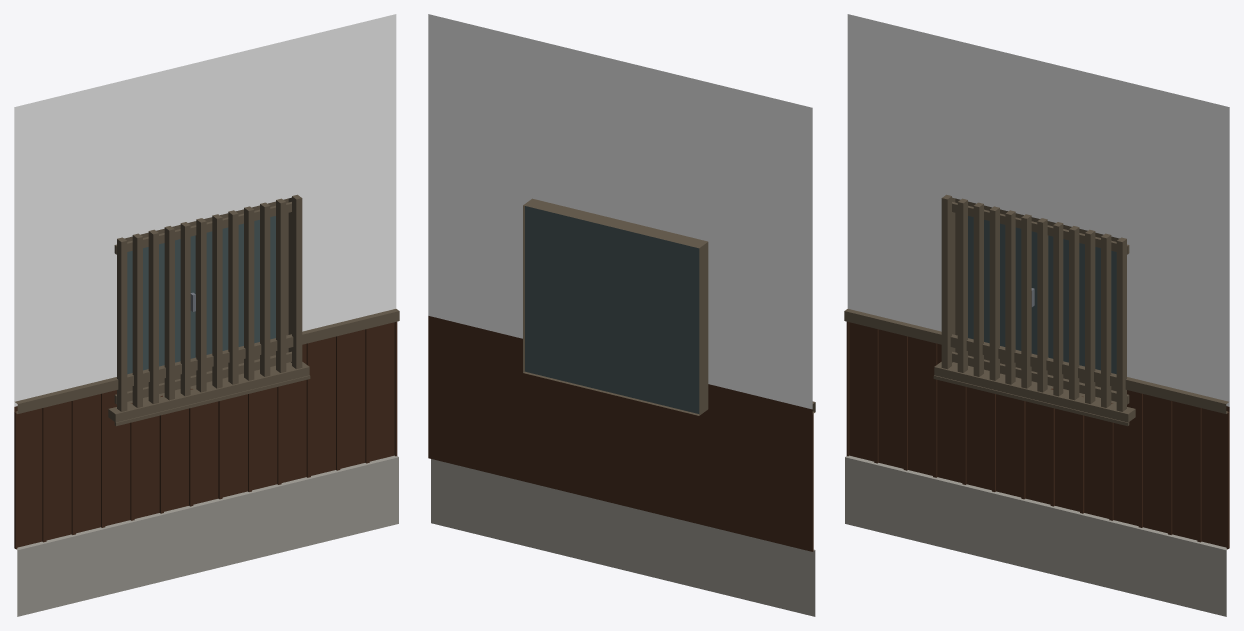
File: base-w1_close.fbx
3 renders of one model, left to right at view 1: azimuth 30°, elevation 25°; view 2: azimuth 150°, elevation 25°; view 3: azimuth 330°, elevation 25°, orthographic.
Visible parts, largest first — view 1: a2015/800/base-w1_close; view 2: a2015/800/base-w1_close; view 3: a2015/800/base-w1_close.
Boxes of the visible parts, <box> form: a2015/800/base-w1_close: <box>14,14,399,616</box>; a2015/800/base-w1_close: <box>428,14,815,616</box>; a2015/800/base-w1_close: <box>844,14,1229,616</box>.
Bounding box in the file's own units: 2.4 × 3.05 × 0.185.
